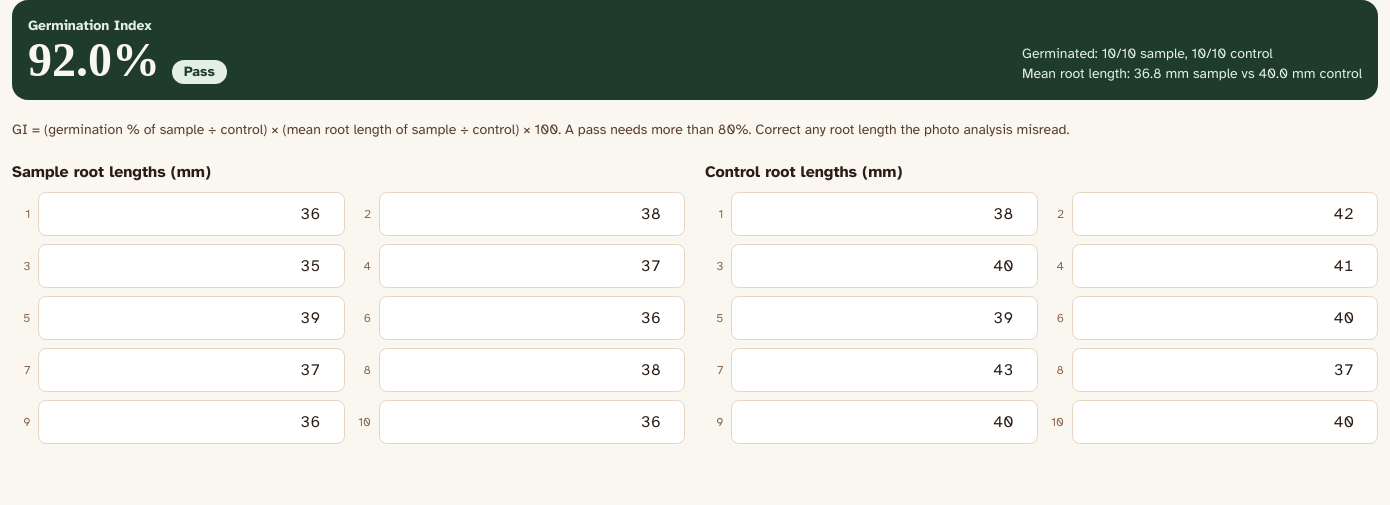
Test: GiEditor › recalculates GI live when a root length is edited
Clear the 1st number field named "Sample seed 1 root length (mm)". click: [191, 214]
box: [38,192,344,236]
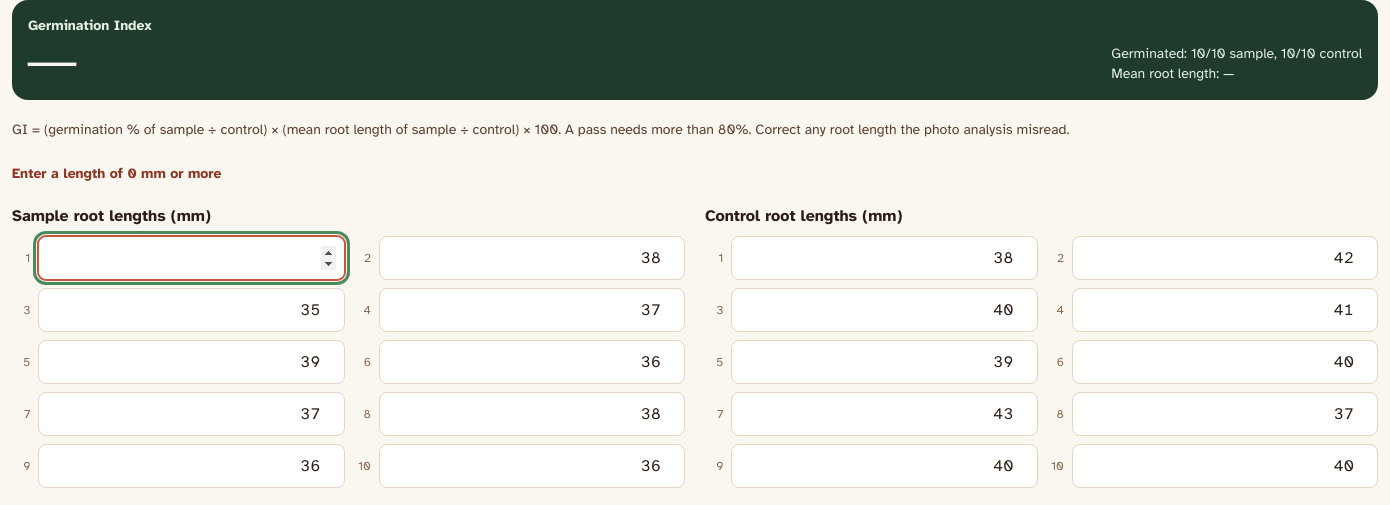
Type "4" into the 1st number field named "Sample seed 1 root length (mm)". click: [191, 258]
box: [38,236,344,280]
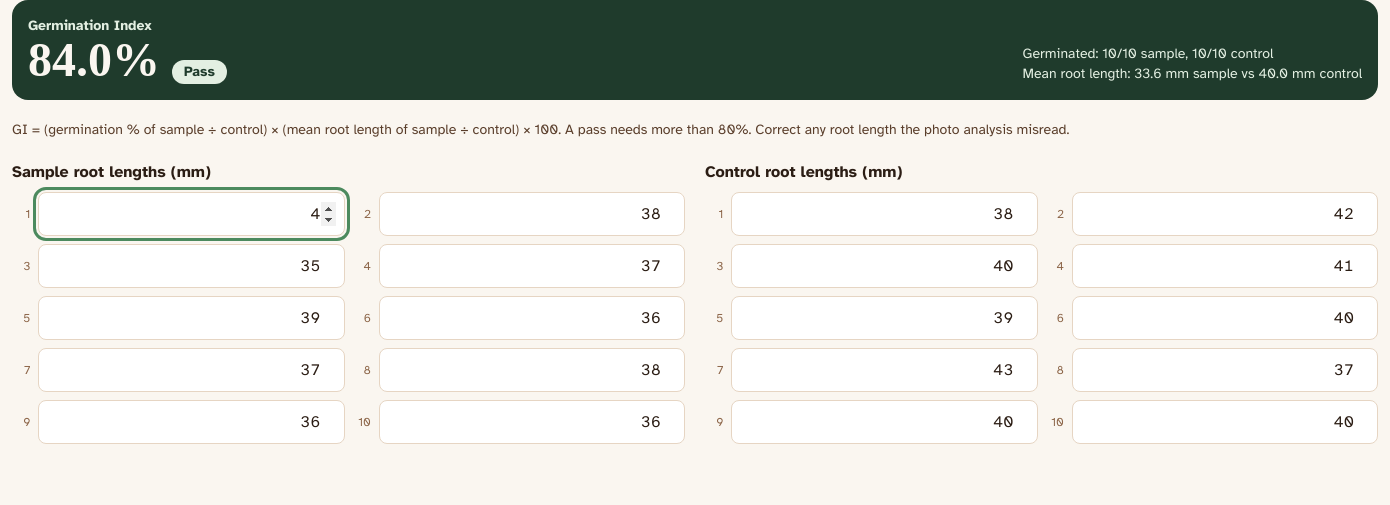
Result: the text "84.0%" is shown at [28,36,160,84]
Result: the text "Pass" is shown at [172,60,227,84]
